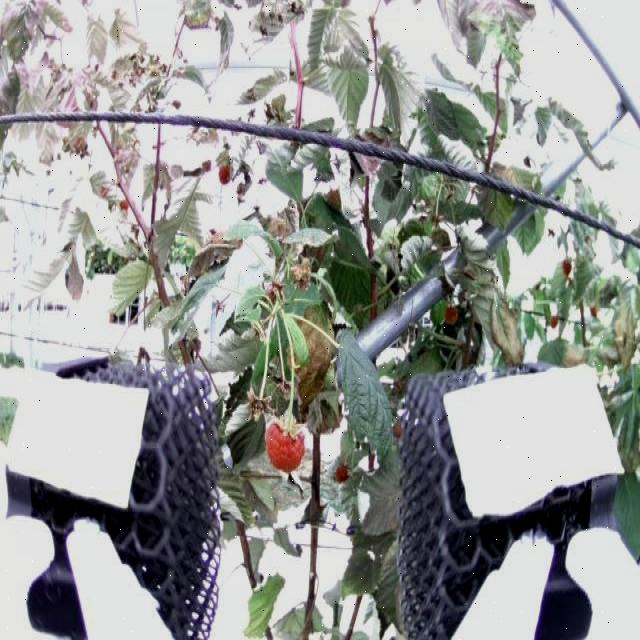Riped berries: (262, 410, 302, 476)
